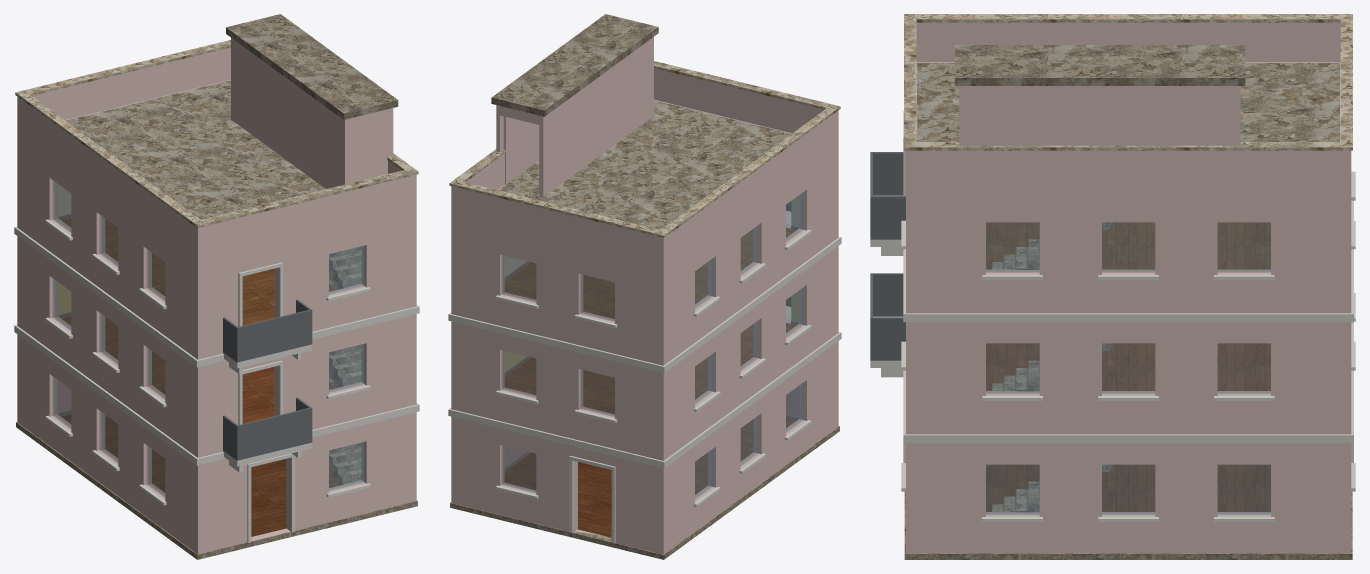
The model's file is bay-townhouse-pink.coast-v2.lod0.glb.
The picture shows the model from 3 angles, left to right: view 1: azimuth 30°, elevation 25°; view 2: azimuth 150°, elevation 25°; view 3: azimuth 270°, elevation 25°; orthographic projection. The views are drawn at different scales.
Parts seen in each view (by area): view 1: bay-townhouse-pink; view 2: bay-townhouse-pink; view 3: bay-townhouse-pink.
Boxes of the visible parts, x1,y1,x2,y2 form: bay-townhouse-pink: (14, 14, 419, 559); bay-townhouse-pink: (448, 14, 841, 559); bay-townhouse-pink: (870, 14, 1355, 559).
Bounding box in the file's own units: 7.2 × 11.95 × 10.9.
4 materials, 2 textured.
